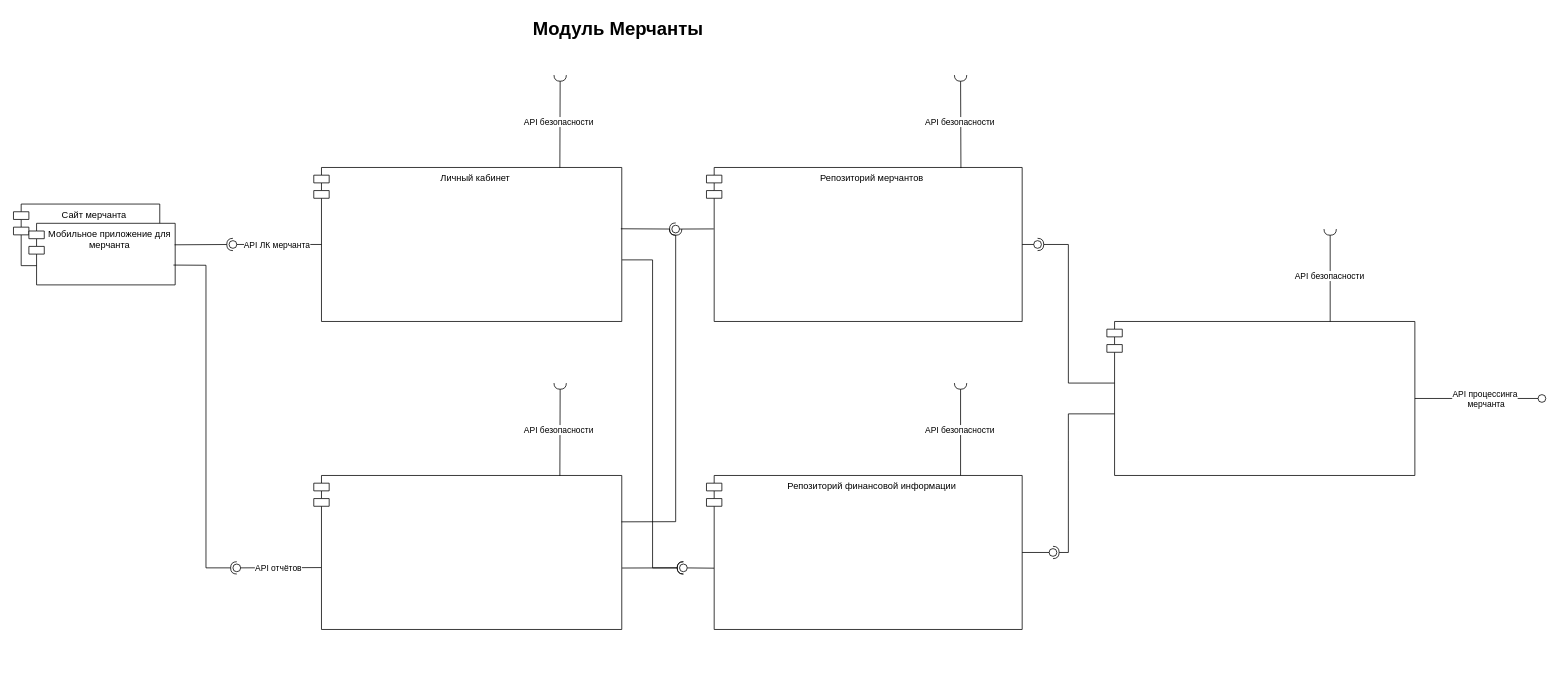
Some shapes in this 1565 by 673 pixel diagram are drawn without their labels. The shapes that lost their labels are listed below. From the top down, each one's centre as x and y in pixels, then its label:
At pixel 1260 398: "Процессинг мерчантов".
At pixel 467 552: "Модуль отчётности".
